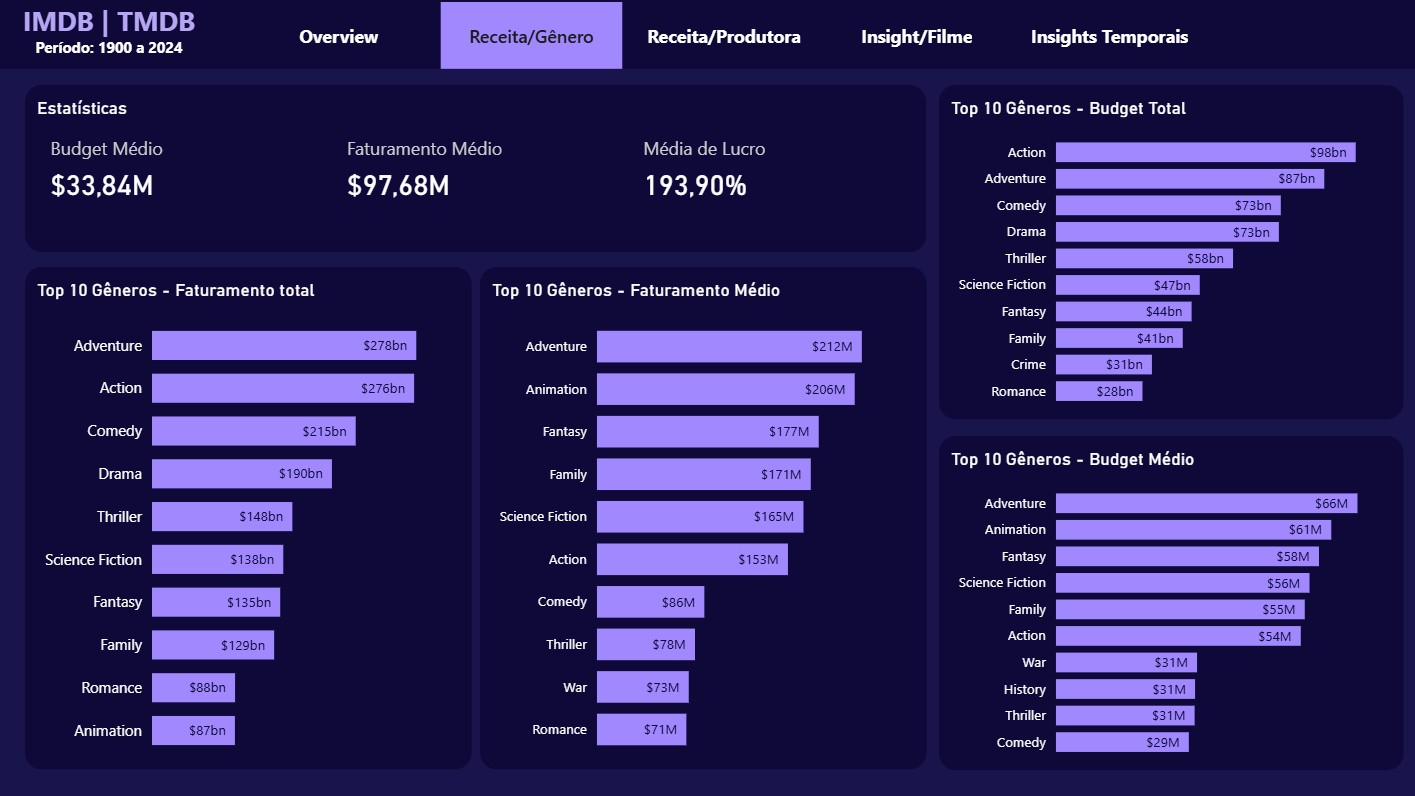

Layout of this report page (visuals, bound fields, positions):
{"tool":"powerbi","page":{"name":"Receita/Gênero","canvas":[1280,720],"ordinal":1},"visuals":[{"type":"shape","box":[0,0,1280.2,65.5],"z":0},{"type":"clusteredBarChart","title":"Top 10 Gêneros - Faturamento total","fields":{"Category":["receita_por_genero.genres_list"],"Y":["Sum(receita_por_genero.faturamento_total)"]},"box":[24.3,243.2,400.7,451.3],"z":1000},{"type":"clusteredBarChart","title":"Top 10 Gêneros - Faturamento Médio","fields":{"Category":["receita_por_genero.genres_list"],"Y":["Sum(receita_por_genero.faturamento_media)"]},"box":[432.8,243.2,400.7,451.3],"z":2000},{"type":"textbox","box":[0,5,199.3,67.3],"z":3000},{"type":"cardVisual","title":"Estatísticas","fields":{"Data":["Avg(receita_por_genero.budget_media)","Avg(receita_por_genero.faturamento_media)","Avg(receita_por_genero.lucro_percentual_total)"]},"box":[24.3,79.8,809.2,149.8],"z":4000},{"type":"clusteredBarChart","title":"Top 10 Gêneros - Budget Total","fields":{"Category":["receita_por_genero.genres_list"],"Y":["Sum(receita_por_genero.budget_total)"]},"box":[845.2,79.8,417.3,299.6],"z":5000},{"type":"clusteredBarChart","title":"Top 10 Gêneros - Budget Médio","fields":{"Category":["receita_por_genero.genres_list"],"Y":["Sum(receita_por_genero.budget_media)"]},"box":[845.2,394.9,417.3,299.6],"z":6000},{"type":"pageNavigator","box":[224.4,5.4,855.6,60.1],"z":7000}]}

Visuals, with their boxes in screenshot pixels (x1, y1, x2, y2), scaled from the page's 1280x720 canvas onto the 1415x796 screenshot:
shape: pyautogui.locateOnScreen(0, 0, 1414, 72)
"Top 10 Gêneros - Faturamento total" clusteredBarChart: pyautogui.locateOnScreen(27, 269, 470, 768)
"Top 10 Gêneros - Faturamento Médio" clusteredBarChart: pyautogui.locateOnScreen(478, 269, 921, 768)
textbox: pyautogui.locateOnScreen(0, 6, 220, 80)
"Estatísticas" cardVisual: pyautogui.locateOnScreen(27, 88, 921, 254)
"Top 10 Gêneros - Budget Total" clusteredBarChart: pyautogui.locateOnScreen(934, 88, 1396, 419)
"Top 10 Gêneros - Budget Médio" clusteredBarChart: pyautogui.locateOnScreen(934, 437, 1396, 768)
pageNavigator: pyautogui.locateOnScreen(248, 6, 1194, 72)
